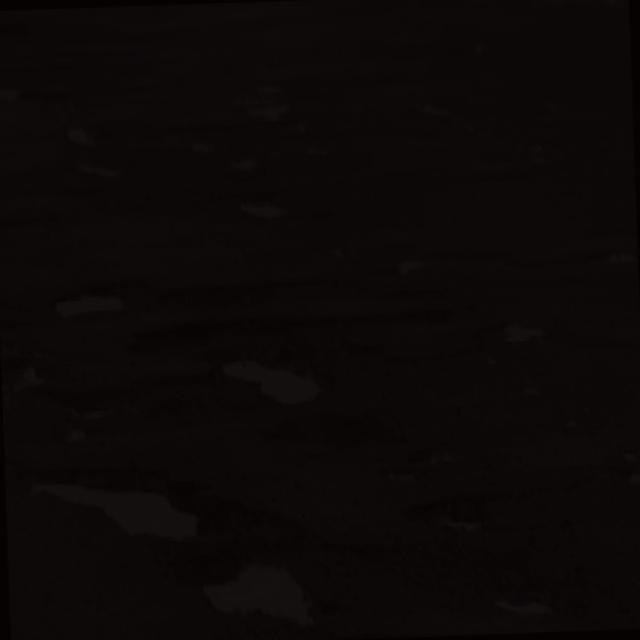Pothole: (21, 462, 210, 552), (200, 552, 322, 640), (215, 351, 333, 415), (398, 491, 501, 545), (42, 278, 134, 323), (235, 82, 304, 132), (488, 313, 558, 355), (483, 591, 561, 626), (237, 191, 294, 234), (64, 404, 114, 448), (9, 355, 47, 402), (70, 156, 127, 186), (391, 248, 430, 282), (61, 124, 101, 151)
